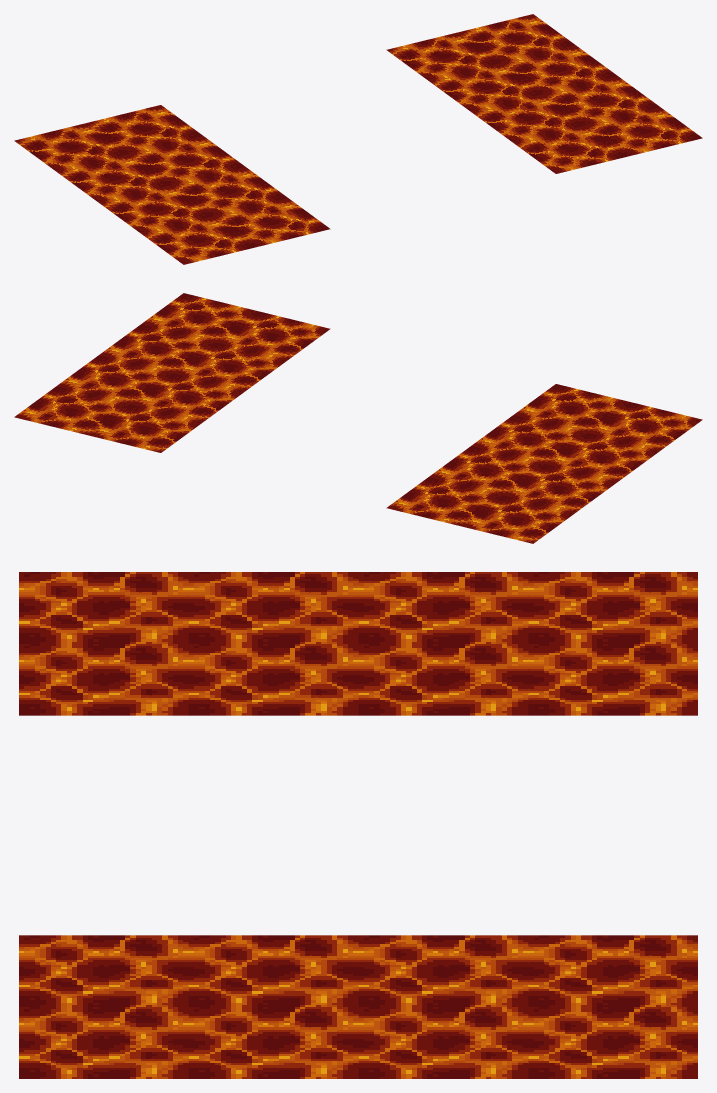
File: scene1_lava.obj
3 renders of one model, top to bottom at view 1: azimuth 30°, elevation 25°; view 2: azimuth 150°, elevation 25°; view 3: azimuth 270°, elevation 25°, orthographic. The views are drawn at different scales.
Parts seen in each view (by area): view 1: Cube.002; view 2: Cube.002; view 3: Cube.002.
Part boxes in pixels (x1,y1,x2,y2): Cube.002: [14, 14, 702, 264]; Cube.002: [14, 293, 702, 543]; Cube.002: [19, 572, 697, 1078].
Bounding box in the file's own units: 497 × 2.1e-05 × 282.
1 material, 1 textured.
